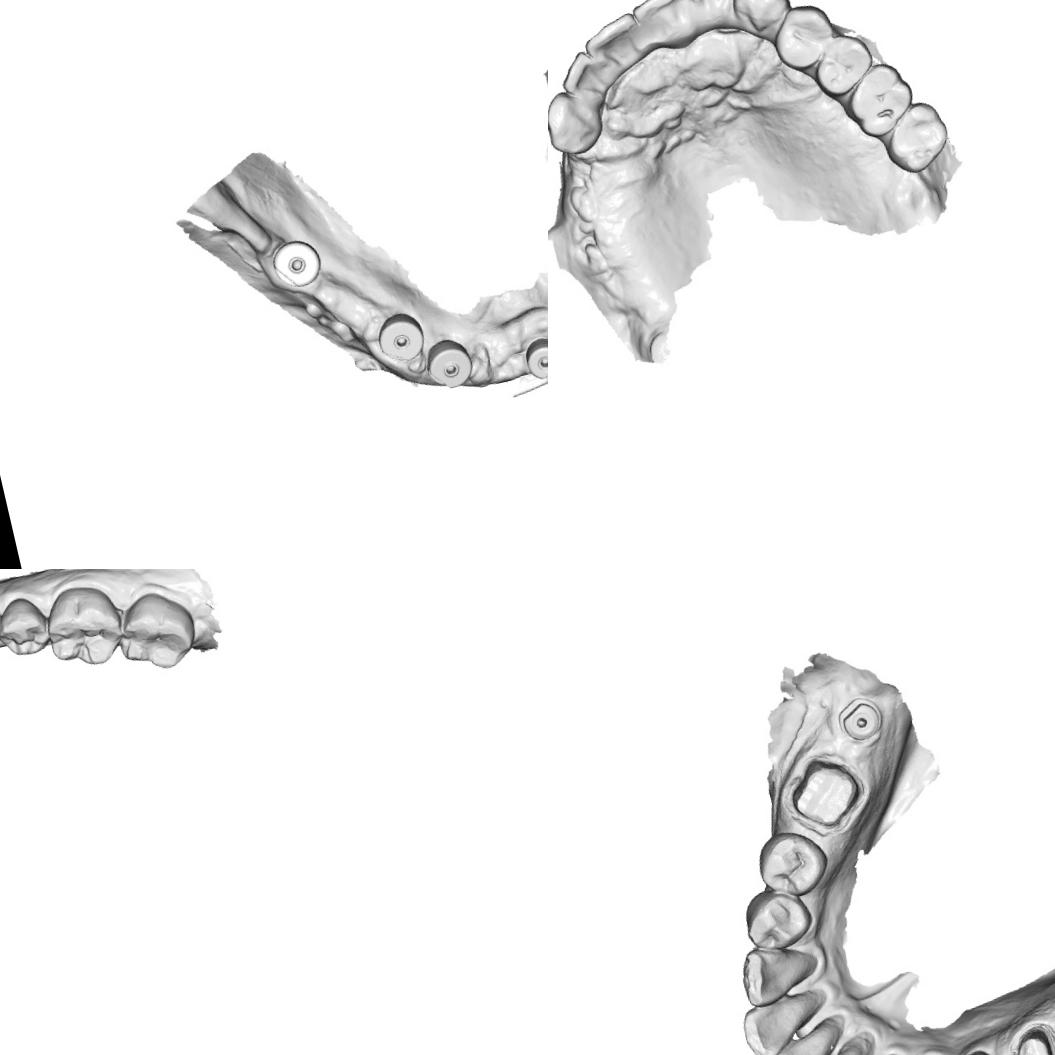canine: (736, 937, 824, 1008), (548, 83, 610, 162), (728, 0, 797, 42)
crown: (779, 746, 866, 837), (1000, 1021, 1055, 1055)
implant: (266, 233, 327, 293), (371, 308, 429, 367), (422, 335, 476, 392), (834, 695, 886, 746), (520, 332, 548, 383)
incisor: (736, 992, 819, 1055), (577, 8, 649, 80), (627, 0, 702, 57), (554, 45, 609, 108), (684, 0, 743, 36), (761, 1029, 838, 1055)
molar: (37, 576, 131, 676), (108, 582, 204, 679), (837, 55, 922, 142), (876, 96, 958, 179)
premolar: (764, 0, 841, 77), (804, 26, 882, 102), (754, 824, 829, 900), (742, 886, 818, 954), (0, 590, 57, 663)
